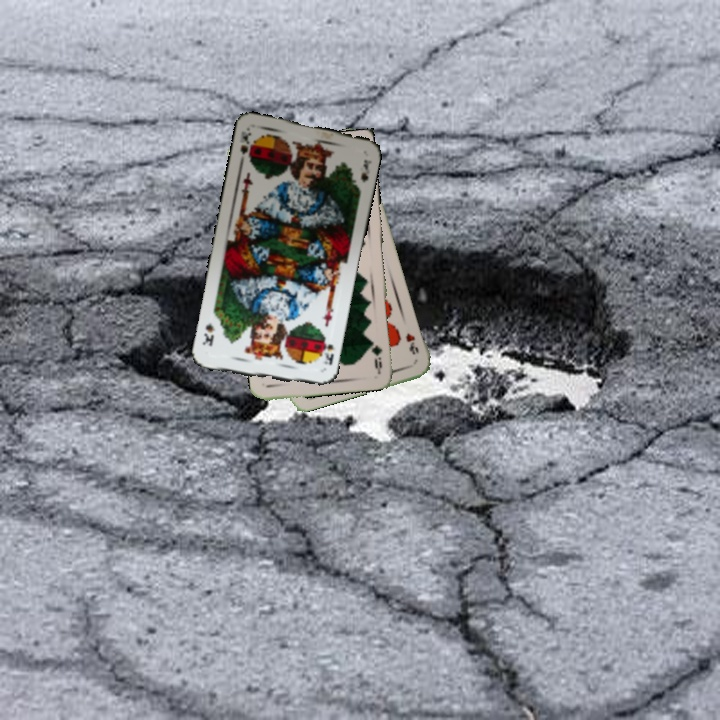G9: (370, 341, 385, 373)
H9: (401, 329, 421, 357)
SK: (236, 127, 255, 167), (317, 334, 336, 368)
